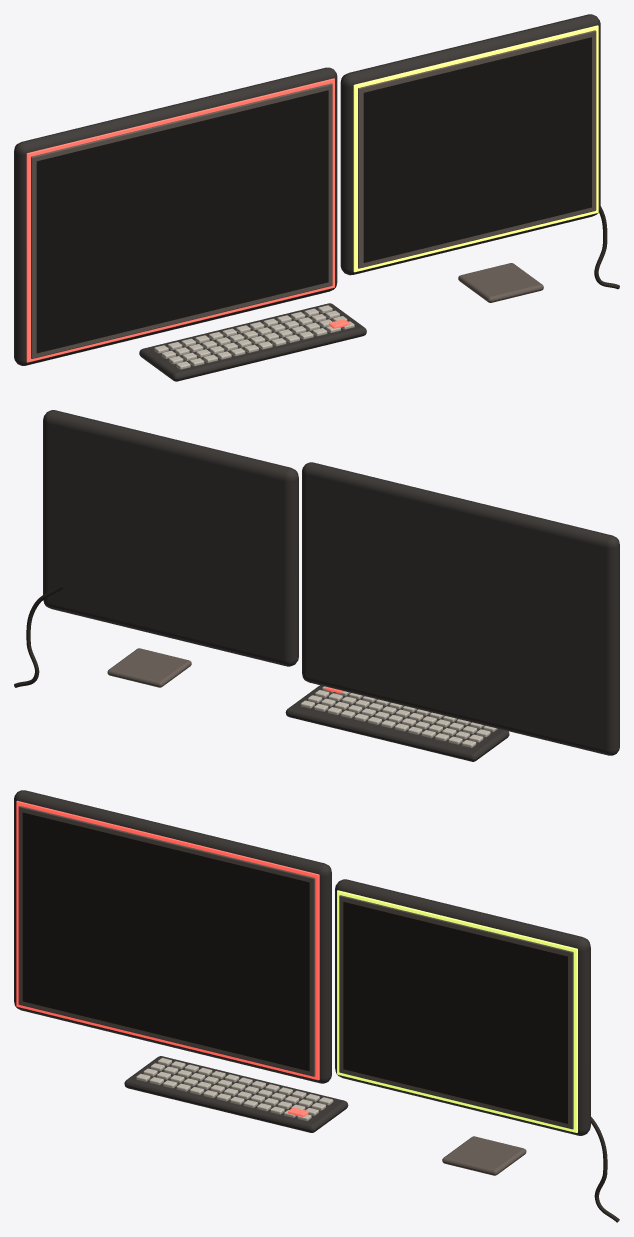
Rendered from workstation.glb.
3 renders of one model, top to bottom at view 1: azimuth 30°, elevation 25°; view 2: azimuth 150°, elevation 25°; view 3: azimuth 330°, elevation 25°, orthographic.
Visible parts, largest first — view 1: EditorScreen.001, TerminalScreen.001, EditorShell, TerminalShell, EditorInnerBezel, KeyboardKeys.001, TerminalInnerBezel, KeyboardBase.001, EditorCoralLip, TerminalLimeLip, FloatingTrackpad; view 2: EditorShell, TerminalShell, KeyboardKeys.001, KeyboardBase.001, FloatingTrackpad, PowerCableLead; view 3: EditorScreen.001, TerminalScreen.001, EditorShell, TerminalShell, EditorInnerBezel, KeyboardKeys.001, TerminalInnerBezel, EditorCoralLip, KeyboardBase.001, TerminalLimeLip, FloatingTrackpad.
Boxes of the visible parts, x1=… form: EditorScreen.001: x1=36, y1=90, x2=328, y2=353; TerminalScreen.001: x1=363, y1=37, x2=591, y2=262; EditorShell: x1=14, y1=67, x2=337, y2=365; TerminalShell: x1=340, y1=14, x2=600, y2=275; EditorInnerBezel: x1=31, y1=83, x2=332, y2=358; KeyboardKeys.001: x1=154, y1=305, x2=354, y2=369; TerminalInnerBezel: x1=358, y1=30, x2=596, y2=268; KeyboardBase.001: x1=139, y1=303, x2=366, y2=381; EditorCoralLip: x1=26, y1=78, x2=334, y2=362; TerminalLimeLip: x1=353, y1=25, x2=598, y2=272; FloatingTrackpad: x1=458, y1=263, x2=543, y2=302; EditorShell: x1=302, y1=462, x2=619, y2=755; TerminalShell: x1=43, y1=410, x2=298, y2=666; KeyboardKeys.001: x1=300, y1=686, x2=497, y2=747; KeyboardBase.001: x1=285, y1=685, x2=509, y2=761; FloatingTrackpad: x1=107, y1=648, x2=191, y2=687; PowerCableLead: x1=14, y1=585, x2=63, y2=687; EditorScreen.001: x1=22, y1=812, x2=309, y2=1071; TerminalScreen.001: x1=343, y1=902, x2=567, y2=1123; EditorShell: x1=14, y1=790, x2=331, y2=1083; TerminalShell: x1=335, y1=879, x2=590, y2=1135; EditorInnerBezel: x1=18, y1=806, x2=315, y2=1076; KeyboardKeys.001: x1=136, y1=1058, x2=333, y2=1121; TerminalInnerBezel: x1=339, y1=895, x2=573, y2=1129; EditorCoralLip: x1=16, y1=800, x2=319, y2=1080; KeyboardBase.001: x1=124, y1=1056, x2=348, y2=1132; TerminalLimeLip: x1=337, y1=890, x2=577, y2=1132; FloatingTrackpad: x1=442, y1=1136, x2=526, y2=1175.
Bounding box in the file's own units: 8.16 × 3.8 × 0.86.
